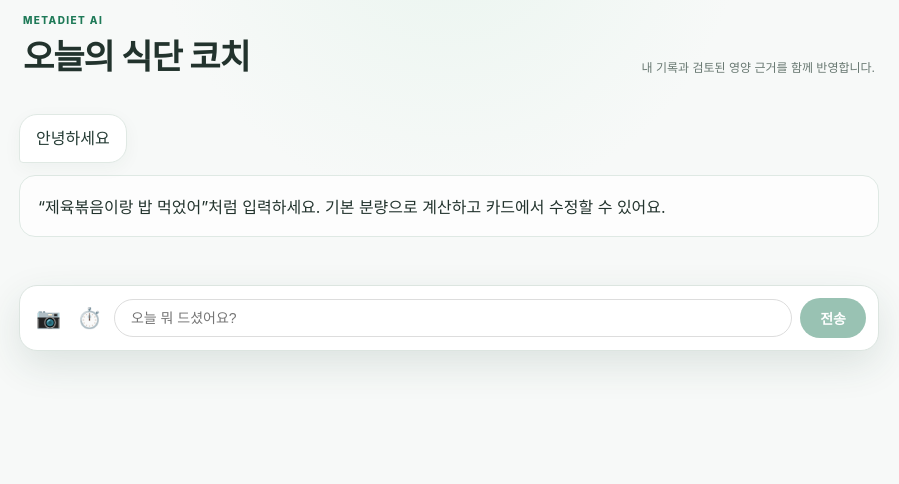
Test: keeps the conversation usable when a streamed request is interrupted
Type "저녁 추천해줘" into the field with placeholder "오늘 뭐 드셨어요?" at (453, 318), box [114,299,792,337]
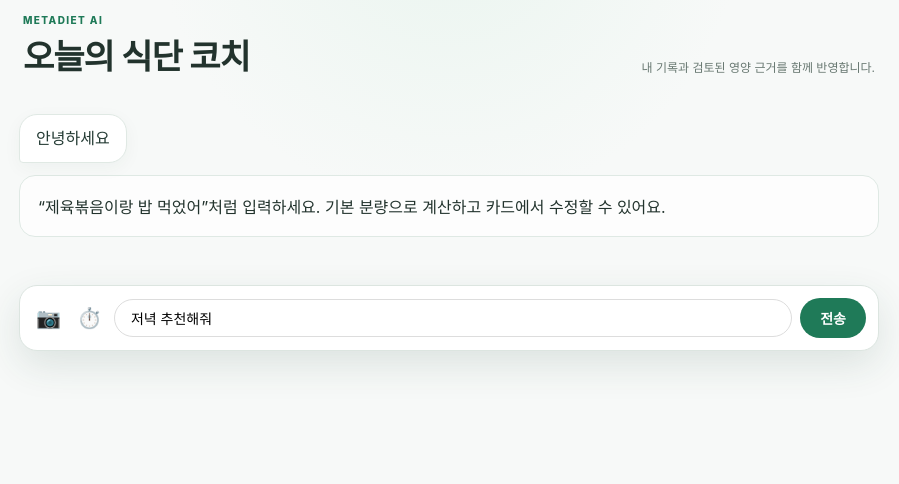
Click the button "전송" at (833, 318), box [800,298,866,338]
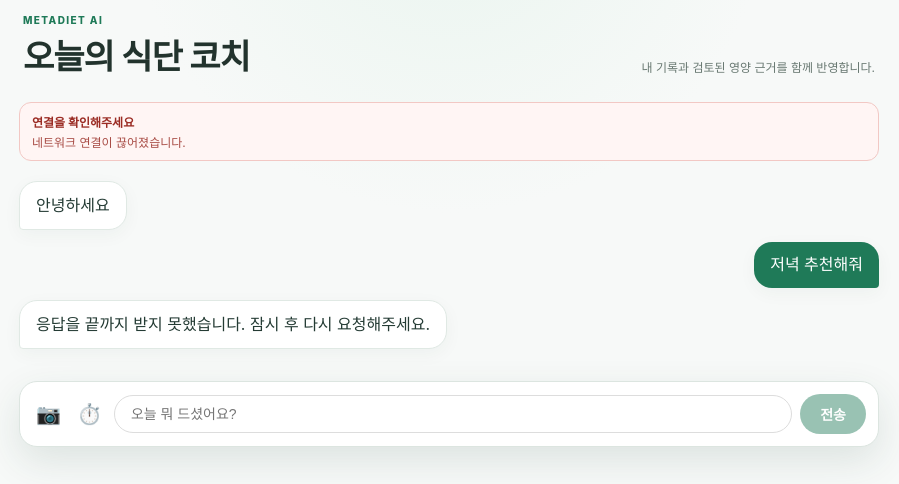
Expected: the message shows "네트워크 연결이 끊어졌습니다.", [32,135,186,150]
Expected: the text "응답을 끝까지 받지 못했습니다. 잠시 후 다시 요청해주세요." is shown, [36,311,430,338]
Type "다시 시도" into the field named "식단 코치에게 메시지 보내기" at (453, 414), box [114,395,792,433]
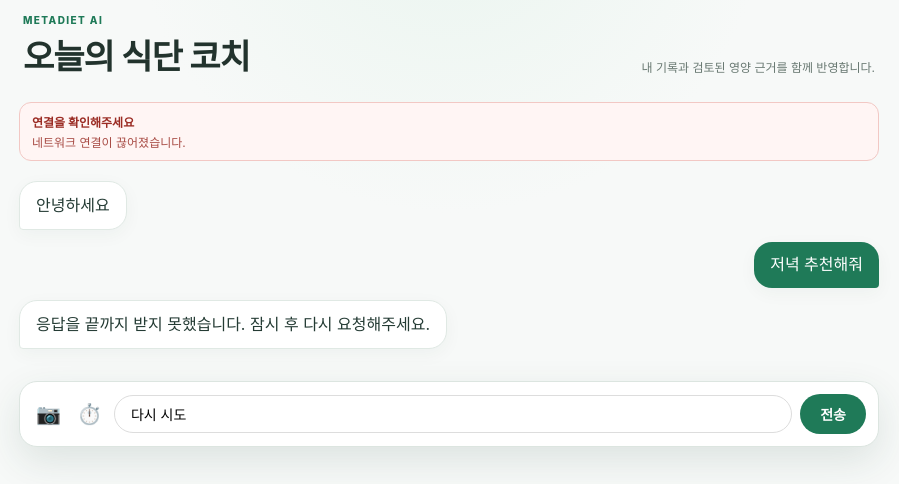
Expected: the button "전송" is enabled, [800,394,866,434]
